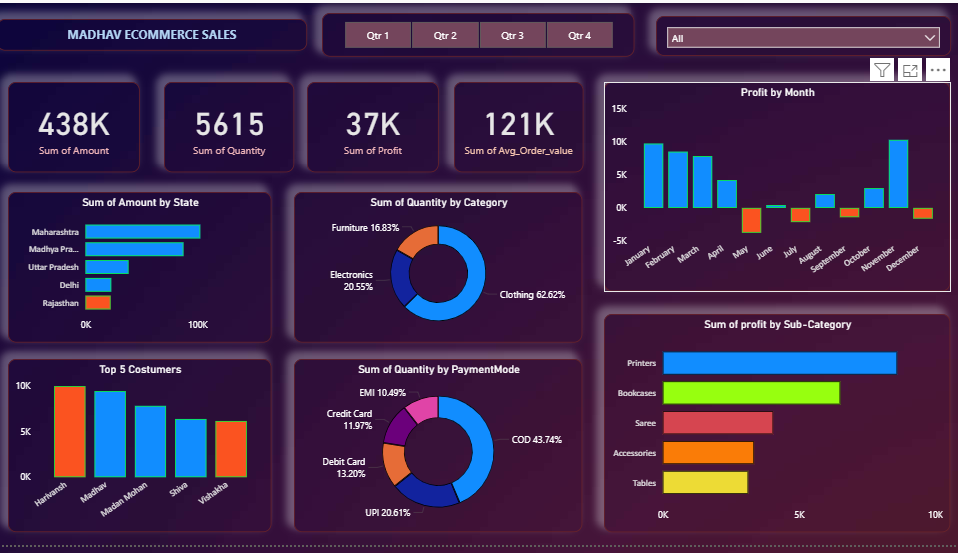

The page's visual inventory and layout, read from the dashboard file:
{"tool":"powerbi","page":{"name":"Page 1","canvas":[1280,720],"ordinal":0},"visuals":[{"type":"textbox","box":[0,21.7,411.7,41.7],"z":0},{"type":"columnChart","title":"Profit by Month","fields":{"Category":["Orders.Order Date.Variation.Date Hierarchy.Month"],"Y":["Sum(Details.Profit)"]},"box":[806.7,105,460,278.3],"z":1000},{"type":"barChart","title":"Sum of profit by Sub-Category","fields":{"Category":["Details.Sub-Category"],"Y":["Sum(Details.Profit)"]},"box":[806.7,413.3,460,290],"z":2000},{"type":"donutChart","title":"Sum of Quantity by Category","fields":{"Y":["Sum(Details.Quantity)"],"Category":["Details.Category"]},"box":[395,251.7,383.3,200],"z":3000},{"type":"donutChart","title":"Sum of Quantity by PaymentMode","fields":{"Y":["Sum(Details.Quantity)"],"Category":["Details.PaymentMode"]},"box":[395,473.3,383.3,230],"z":4000},{"type":"card","fields":{"Values":["Sum(Details.Amount)"]},"box":[15,105,175,120],"z":5000},{"type":"card","fields":{"Values":["Sum(Details.Quantity)"]},"box":[221.7,105,173.3,120],"z":6000},{"type":"card","fields":{"Values":["Sum(Details.Profit)"]},"box":[411.7,105,175,120],"z":7000},{"type":"card","fields":{"Values":["Sum(Details.Avg_Order_value)"]},"box":[606.7,105,171.7,120],"z":8000},{"type":"barChart","title":"Sum of Amount by State","fields":{"Category":["Orders.State"],"Y":["Sum(Details.Amount)"]},"box":[15,251.7,350,200],"z":9000},{"type":"columnChart","title":"Top 5 Costumers","fields":{"Category":["Orders.CustomerName"],"Y":["Sum(Details.Amount)"]},"box":[15,473.3,350,230],"z":10000},{"type":"slicer","fields":{"Values":["Orders.Order Date.Variation.Date Hierarchy.Quarter"]},"box":[431.7,13.3,415,58.3],"z":11000},{"type":"slicer","fields":{"Values":["Orders.State"]},"box":[875,16.7,391.7,53.3],"z":12000}]}

Visuals, with their boxes in screenshot pixels (x1, y1, x2, y2), scaled from the page's 1280x720 canvas onto the 958x553 screenshot:
textbox: crop(0, 17, 308, 49)
"Profit by Month" columnChart: crop(604, 81, 948, 294)
"Sum of profit by Sub-Category" barChart: crop(604, 317, 948, 540)
"Sum of Quantity by Category" donutChart: crop(296, 193, 583, 347)
"Sum of Quantity by PaymentMode" donutChart: crop(296, 364, 583, 540)
card - Sum(Details.Amount): crop(11, 81, 142, 173)
card - Sum(Details.Quantity): crop(166, 81, 296, 173)
card - Sum(Details.Profit): crop(308, 81, 439, 173)
card - Sum(Details.Avg_Order_value): crop(454, 81, 583, 173)
"Sum of Amount by State" barChart: crop(11, 193, 273, 347)
"Top 5 Costumers" columnChart: crop(11, 364, 273, 540)
slicer - Orders.Order Date.Variation.Date Hierarchy.Quarter: crop(323, 10, 634, 55)
slicer - Orders.State: crop(655, 13, 948, 54)
